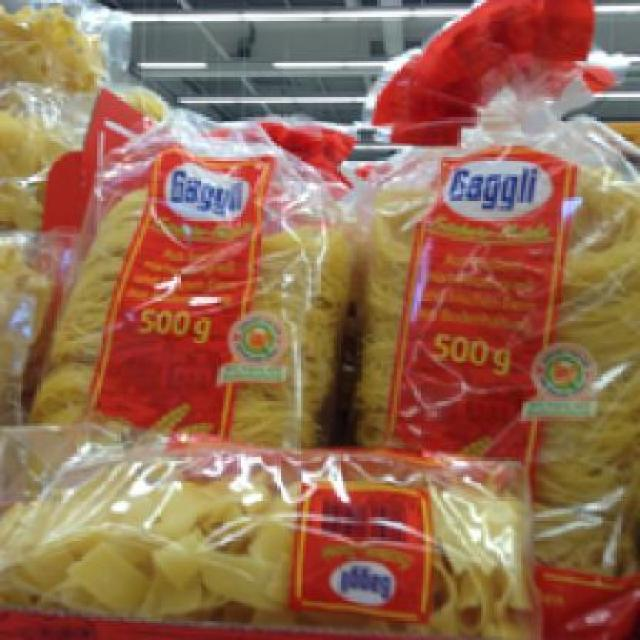Pasta: (357, 94, 637, 603), (0, 425, 540, 638), (31, 120, 352, 446)
